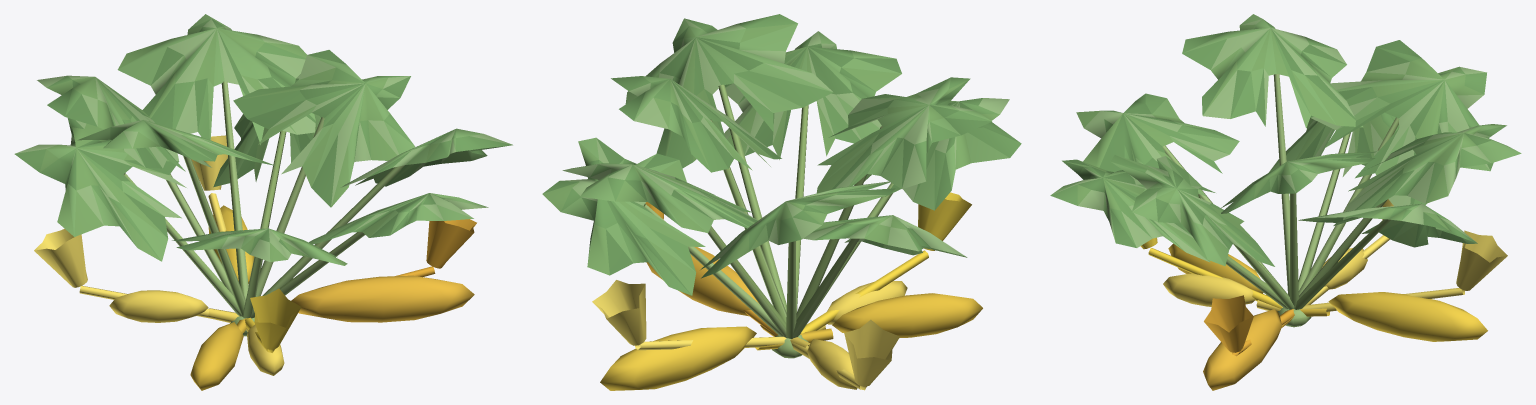
The model's file is courgette_jaune_mur.glb.
The picture shows the model from 3 angles, left to right: view 1: azimuth 30°, elevation 25°; view 2: azimuth 150°, elevation 25°; view 3: azimuth 270°, elevation 25°; orthographic projection. The views are drawn at different scales.
Visible parts, largest first — view 1: Courgette_Feuilles, Courgette_Fruits, Courgette_Petioles, Courgette_Fleurs; view 2: Courgette_Feuilles, Courgette_Fruits, Courgette_Petioles, Courgette_Fleurs; view 3: Courgette_Feuilles, Courgette_Fruits, Courgette_Petioles, Courgette_Fleurs.
Boxes of the visible parts, <box> form: Courgette_Feuilles: <box>14,14,512,265</box>; Courgette_Fruits: <box>109,205,474,390</box>; Courgette_Petioles: <box>123,81,404,318</box>; Courgette_Fleurs: <box>34,135,476,352</box>; Courgette_Feuilles: <box>542,14,1021,295</box>; Courgette_Fruits: <box>600,246,982,390</box>; Courgette_Petioles: <box>643,84,893,338</box>; Courgette_Fleurs: <box>592,192,971,390</box>; Courgette_Feuilles: <box>1050,14,1521,266</box>; Courgette_Fruits: <box>1163,243,1487,390</box>; Courgette_Petioles: <box>1162,74,1399,309</box>; Courgette_Fleurs: <box>1140,199,1507,356</box>.
Size of the model in its own units: 0.8093 by 0.5214 by 0.9198.
